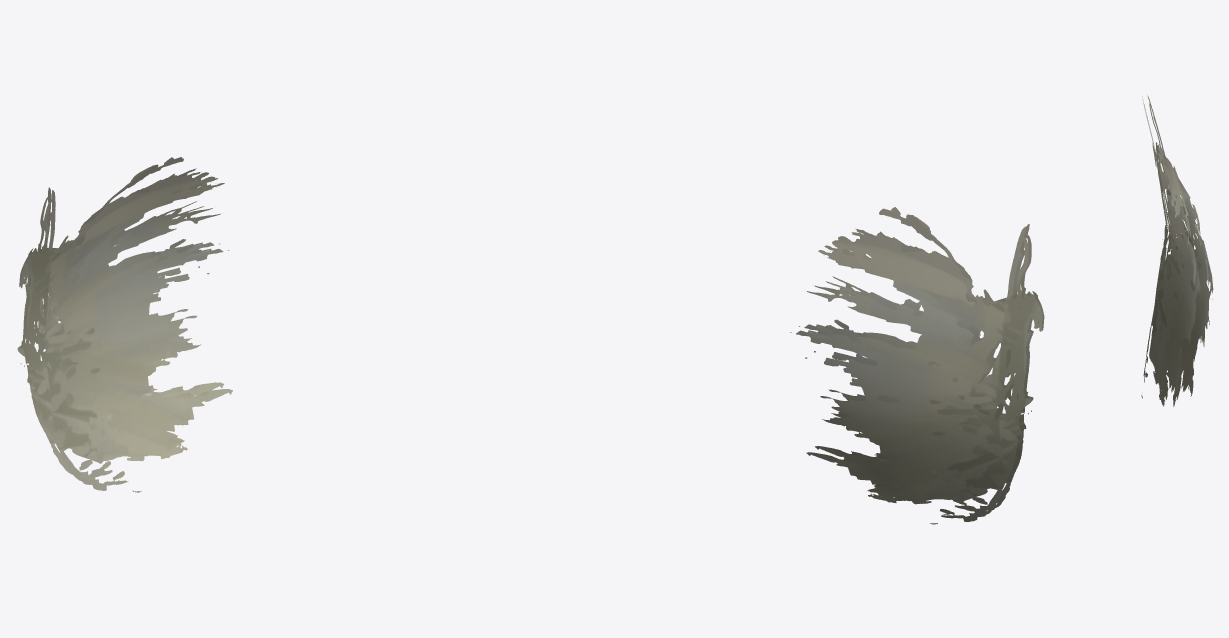
File: props_foliage_shrub_03_card.glb
3 views of the same model, side by side, from view 1: azimuth 30°, elevation 25°; view 2: azimuth 150°, elevation 25°; view 3: azimuth 270°, elevation 25° (orthographic). The views are drawn at different scales.
Visible parts, largest first — view 1: models/props_foliage/shrub_03_card; view 2: models/props_foliage/shrub_03_card; view 3: models/props_foliage/shrub_03_card.
Part boxes in pixels (left/top/right/bottom): models/props_foliage/shrub_03_card: left=17, top=157, right=232, bottom=492; models/props_foliage/shrub_03_card: left=790, top=207, right=1044, bottom=524; models/props_foliage/shrub_03_card: left=1141, top=95, right=1213, bottom=406.
Bounding box in the file's own units: 92.25 × 90 × 23.91.
Materials: 1 (1 with a texture image).
